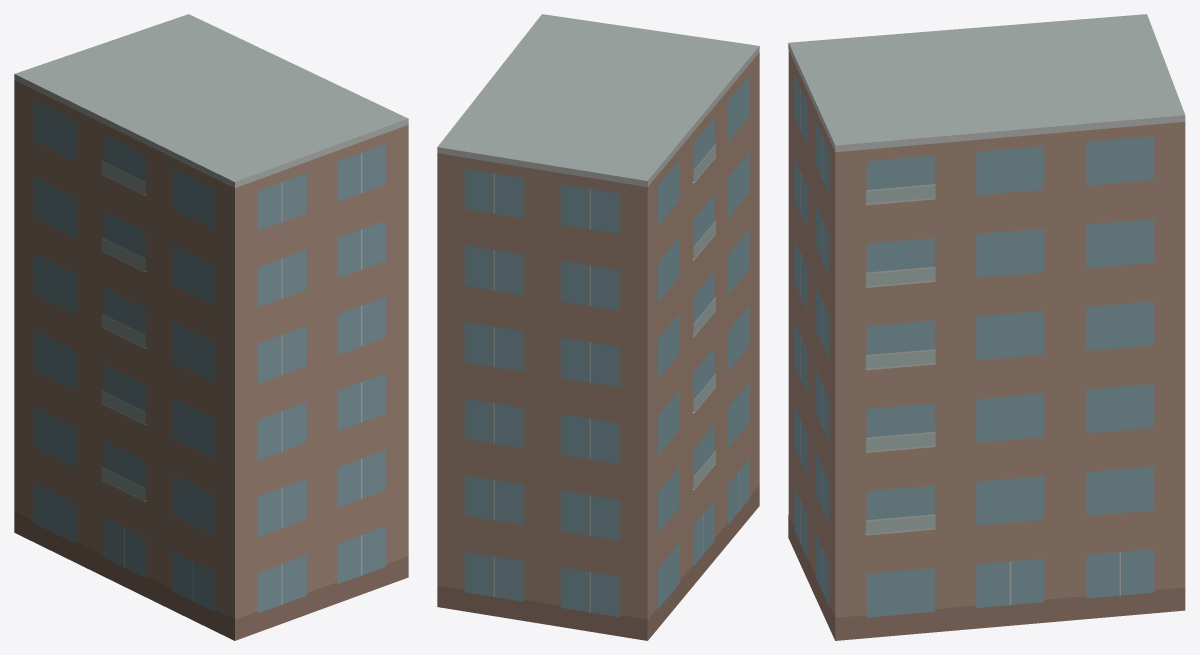
The model's file is survey-upis-33000286.glb.
3 renders of one model, left to right at view 1: azimuth 30°, elevation 25°; view 2: azimuth 150°, elevation 25°; view 3: azimuth 270°, elevation 25°, orthographic. The views are drawn at different scales.
Parts seen in each view (by area): view 1: survey-upis-33000286.tmp; view 2: survey-upis-33000286.tmp; view 3: survey-upis-33000286.tmp.
Part boxes in pixels (<box>): survey-upis-33000286.tmp: <box>14,14,408,640</box>; survey-upis-33000286.tmp: <box>437,14,759,640</box>; survey-upis-33000286.tmp: <box>788,14,1185,640</box>.
Size of the model in its own units: 10.44 by 18.3 by 13.3.
